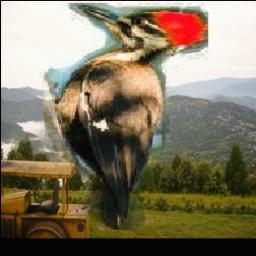Woodpecker: (38, 4, 208, 231)
